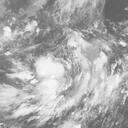cyclone: (35, 26, 117, 98)
